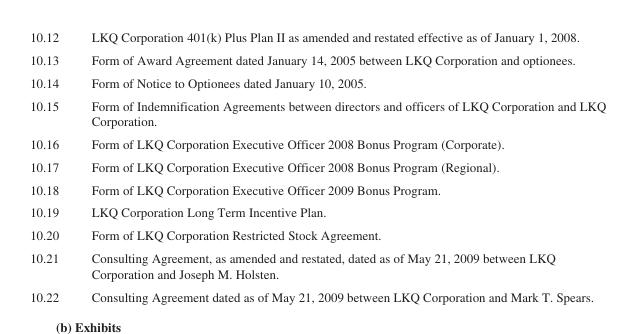table: (29, 29, 605, 303)
table column: (74, 29, 605, 303), (29, 29, 74, 303)
table row: (29, 93, 605, 132), (29, 246, 605, 284), (29, 47, 605, 70), (29, 70, 605, 93), (29, 154, 605, 177), (29, 177, 605, 200), (29, 200, 605, 223), (29, 223, 605, 246), (29, 132, 605, 154), (29, 284, 605, 303), (29, 29, 605, 47)
